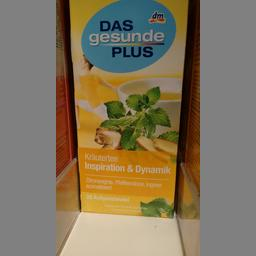tea: (68, 0, 188, 219)
